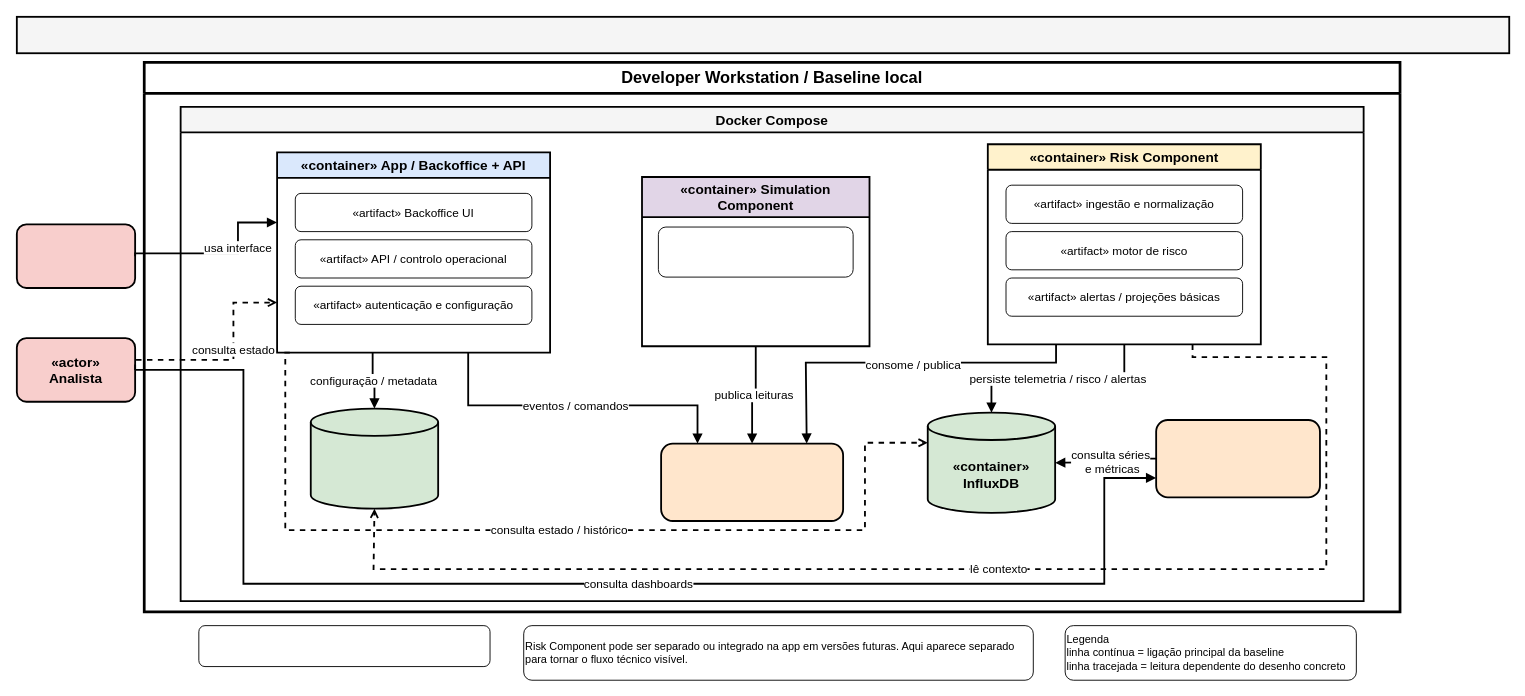
Image size: 1525x696. Some labels were removed from this diagram. Each missing label, with the centre of its shape:
Baseline local reprodutível. Não implica Kubernetes.: point 344,646
Diagrama de deployment, baseline local: point 762,34
«actor» Operador: point 75,255
«artifact» simulador ambiental e de sensores: point 755,251
«container» Grafana: point 1237,458
«container» PostgreSQL: point 374,458
«container» RabbitMQ: point 752,481
